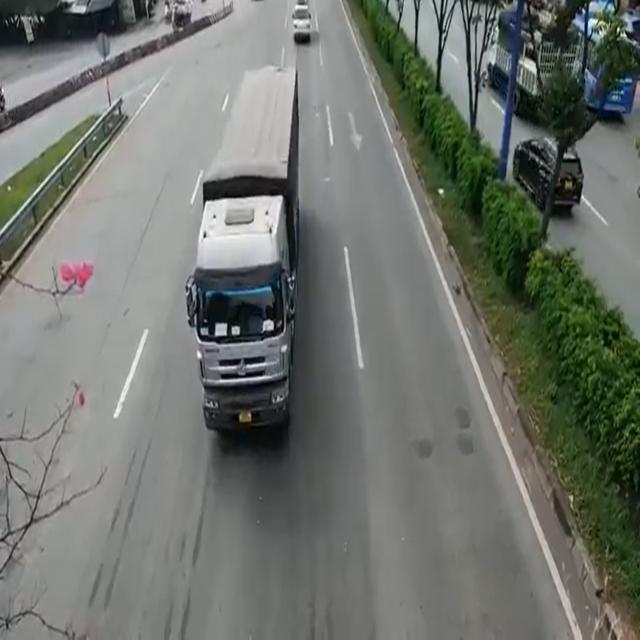car: (516, 127, 578, 215)
truck: (197, 62, 305, 449)
